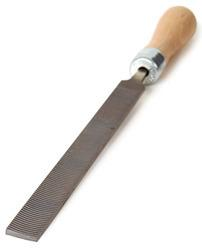Files: (4, 2, 202, 245)
